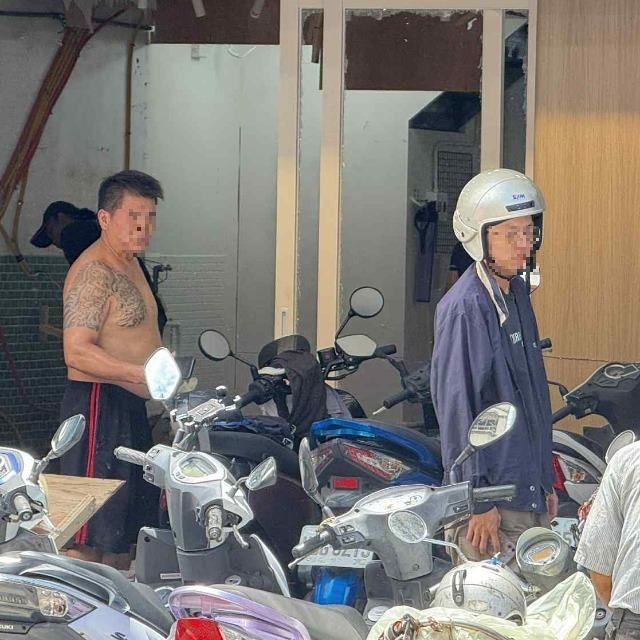NoHelmet: (92, 168, 163, 250)
NoVest: (432, 273, 562, 494), (62, 249, 167, 400)
